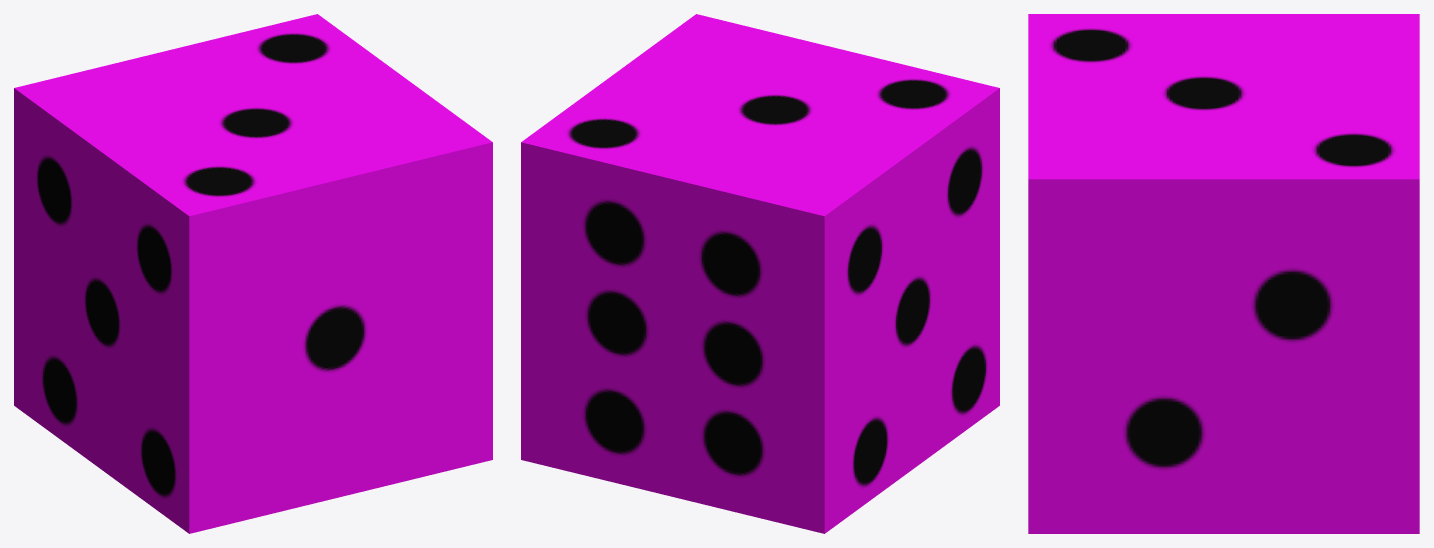
The model's file is Dice.fbx.
3 views of the same model, side by side, from view 1: azimuth 30°, elevation 25°; view 2: azimuth 150°, elevation 25°; view 3: azimuth 270°, elevation 25° (orthographic). The views are drawn at different scales.
Parts seen in each view (by area): view 1: pCube3; view 2: pCube3; view 3: pCube3.
Boxes of the visible parts, <box> form: pCube3: <box>14,14,492,533</box>; pCube3: <box>521,14,999,533</box>; pCube3: <box>1028,14,1419,533</box>.
Bounding box in the file's own units: 1 × 1 × 1.
1 material, 1 textured.
